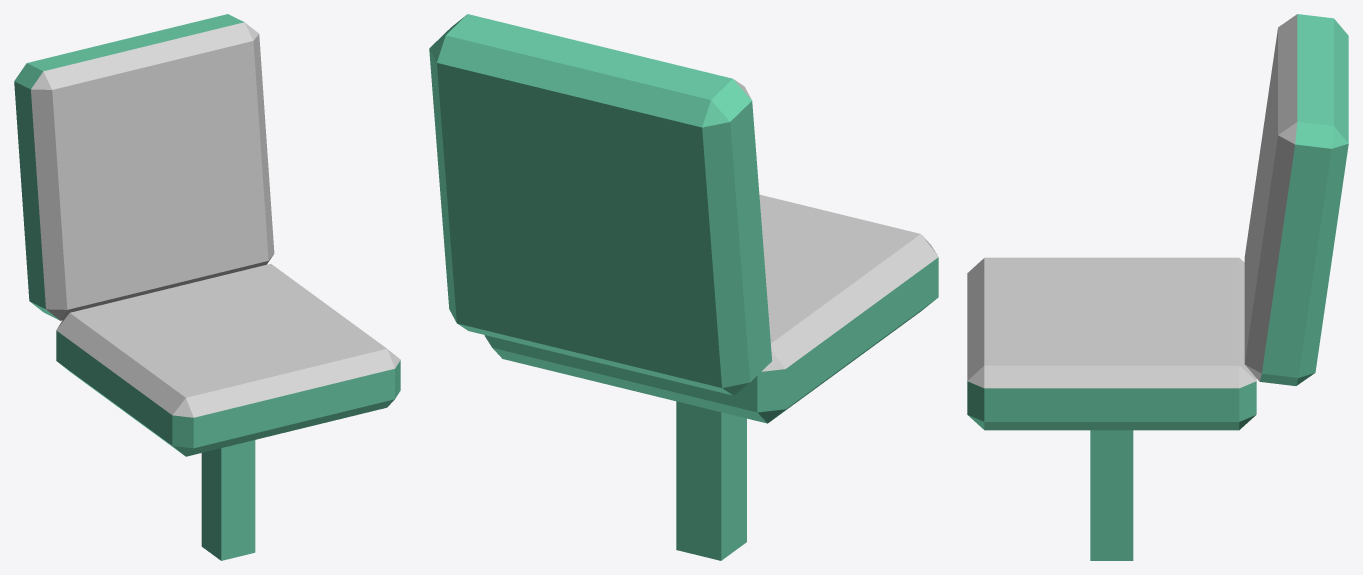
File: SM_Seat.fbx
3 renders of one model, left to right at view 1: azimuth 30°, elevation 25°; view 2: azimuth 150°, elevation 25°; view 3: azimuth 270°, elevation 25°, orthographic. The views are drawn at different scales.
Parts seen in each view (by area): view 1: Seat; view 2: Seat; view 3: Seat.
Part boxes in pixels (x1,y1,x2,y2): Seat: (14,14,400,560); Seat: (429,14,938,560); Seat: (967,14,1348,560).
Bounding box in the file's own units: 100 × 185 × 132.
